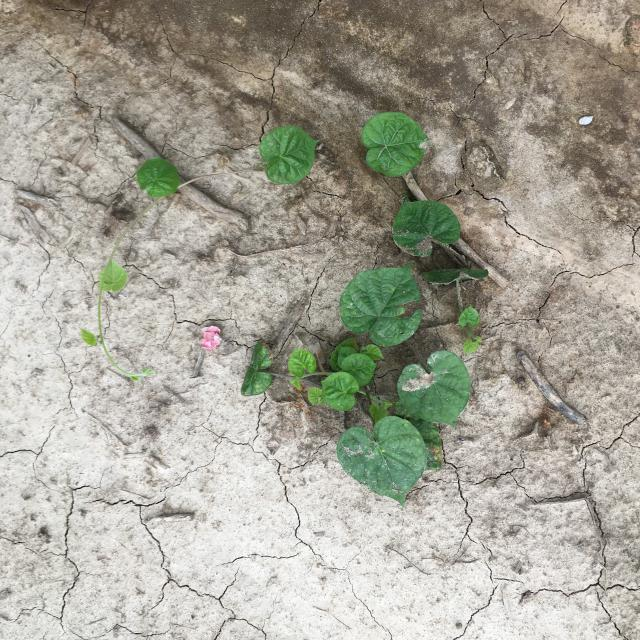MorningGlory: (241, 193, 489, 507), (78, 126, 320, 383), (361, 111, 432, 178)
